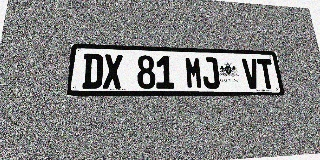1: (155, 56, 174, 89)
8: (137, 55, 156, 89)
D: (82, 53, 103, 89)
J: (201, 57, 220, 89)
M: (184, 57, 203, 89)
T: (257, 59, 276, 89)
V: (242, 58, 261, 89)
X: (103, 54, 123, 89)
